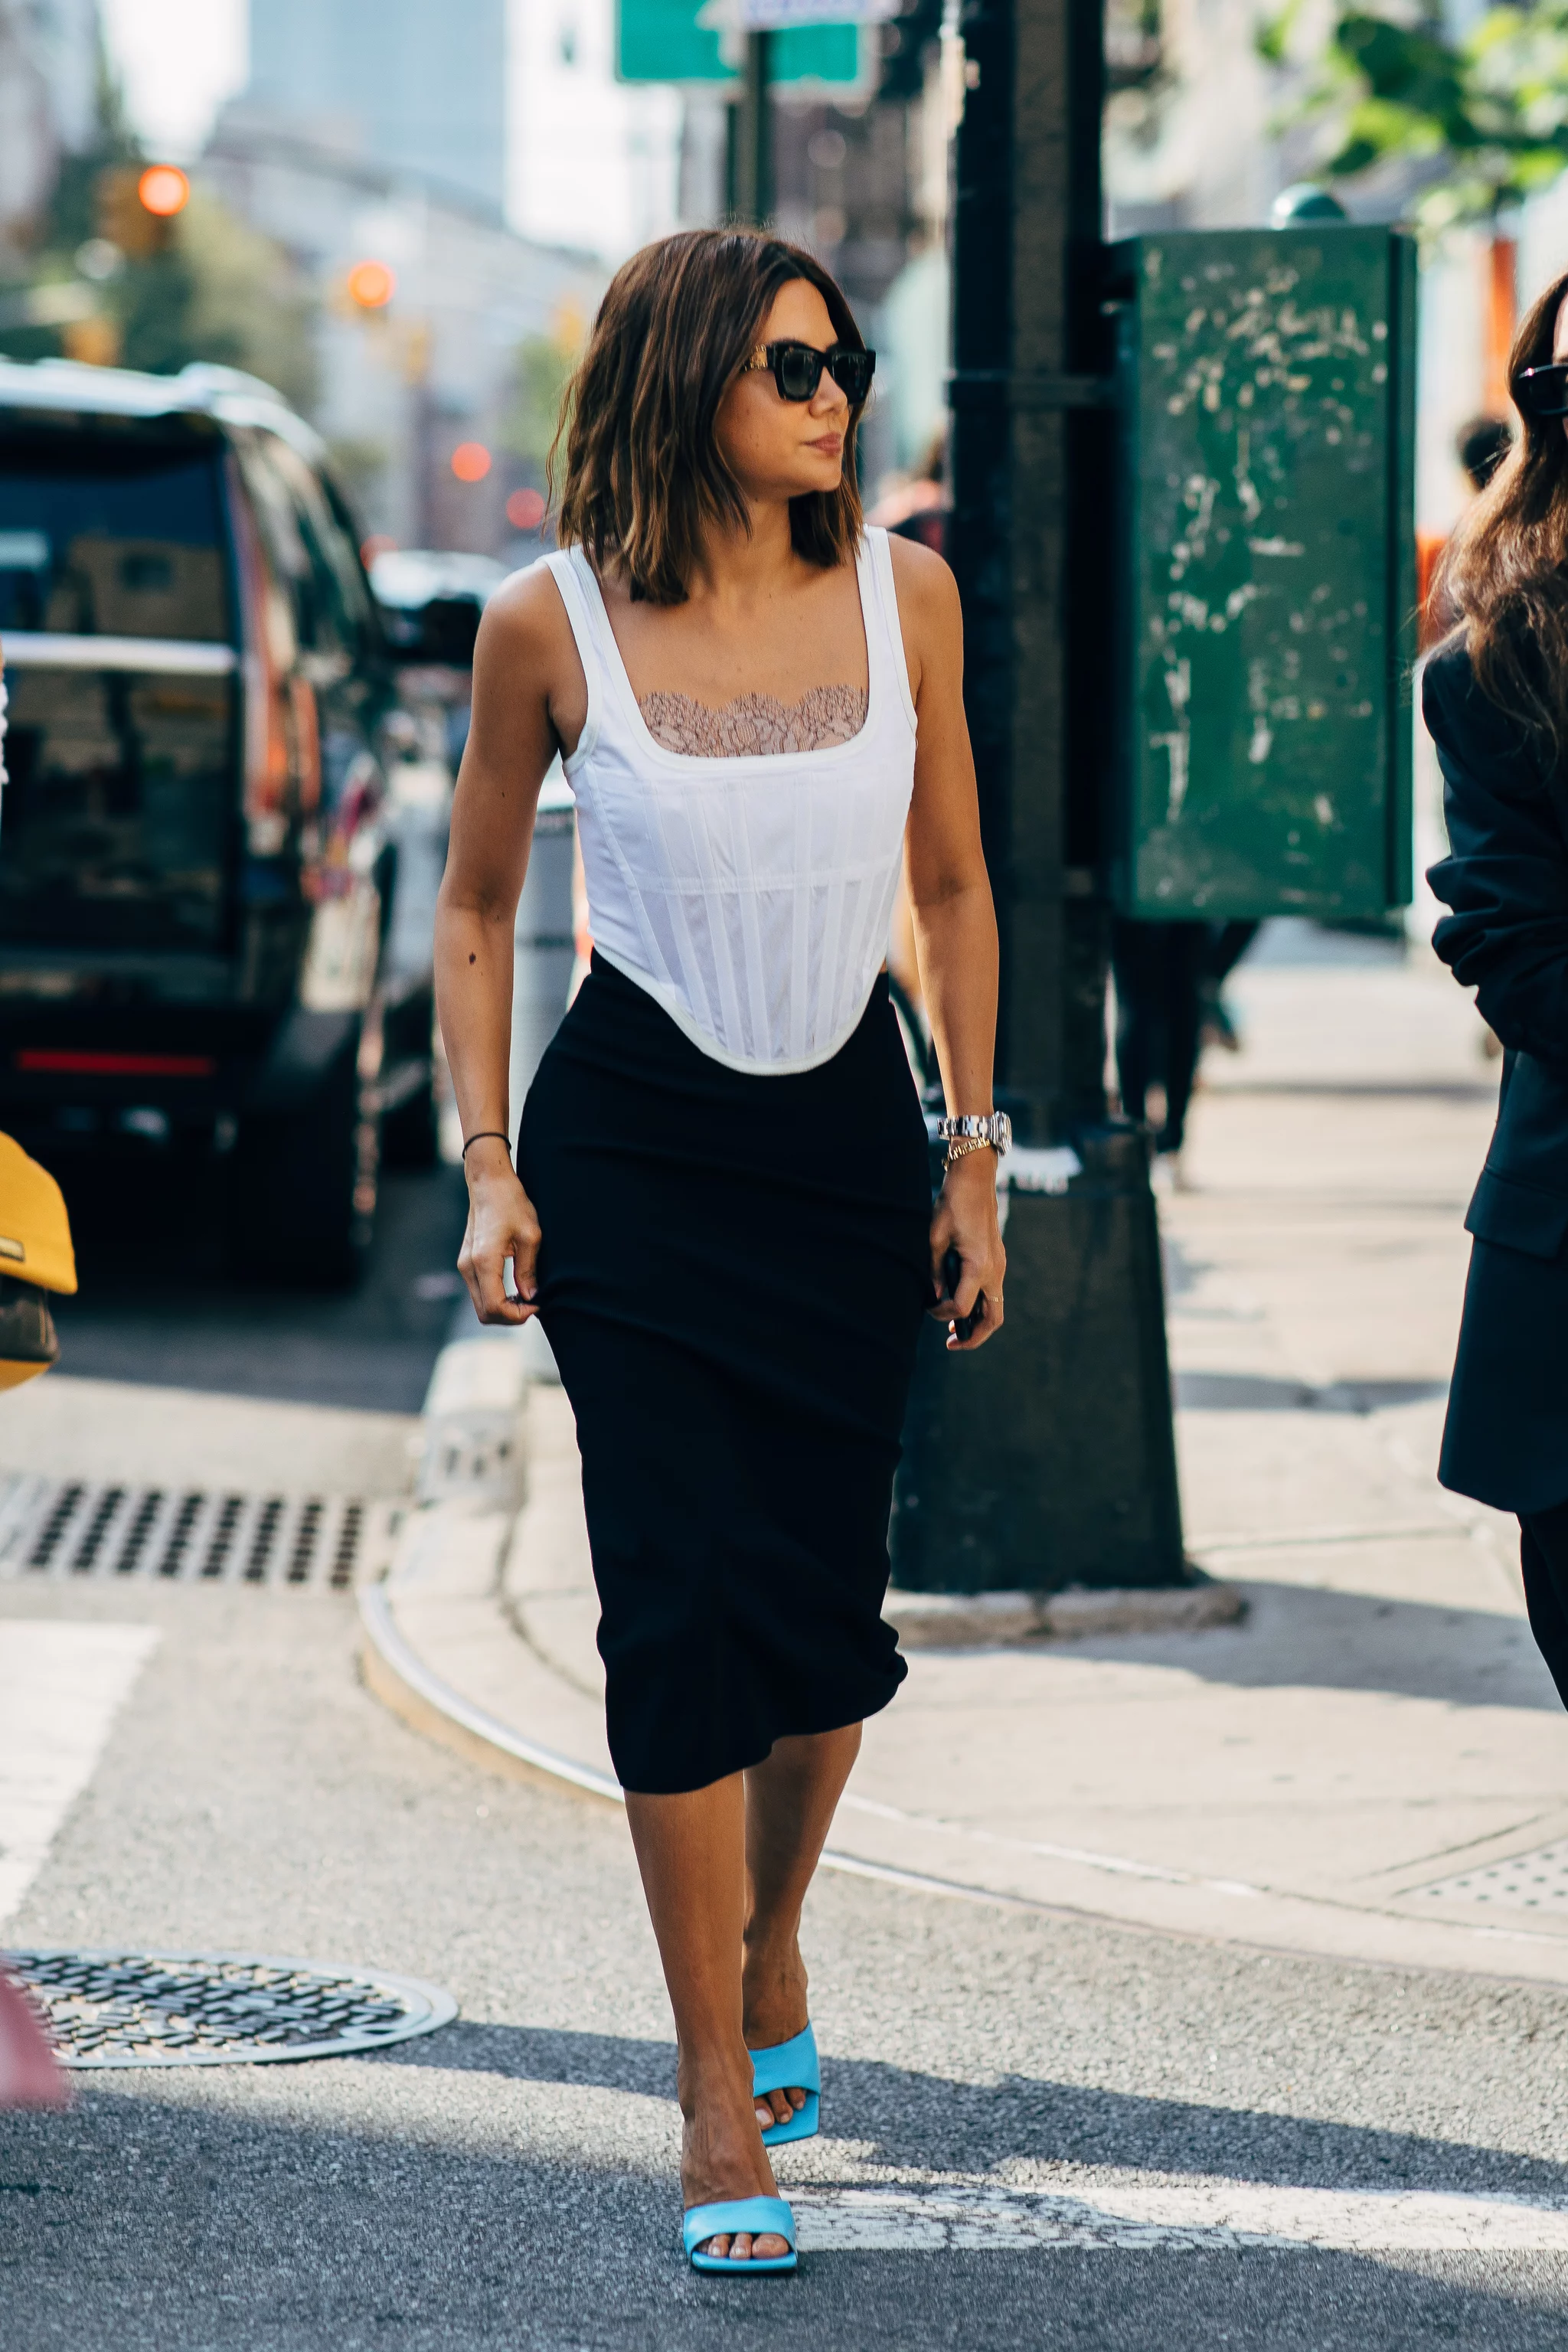person: (414, 216, 1030, 2308)
